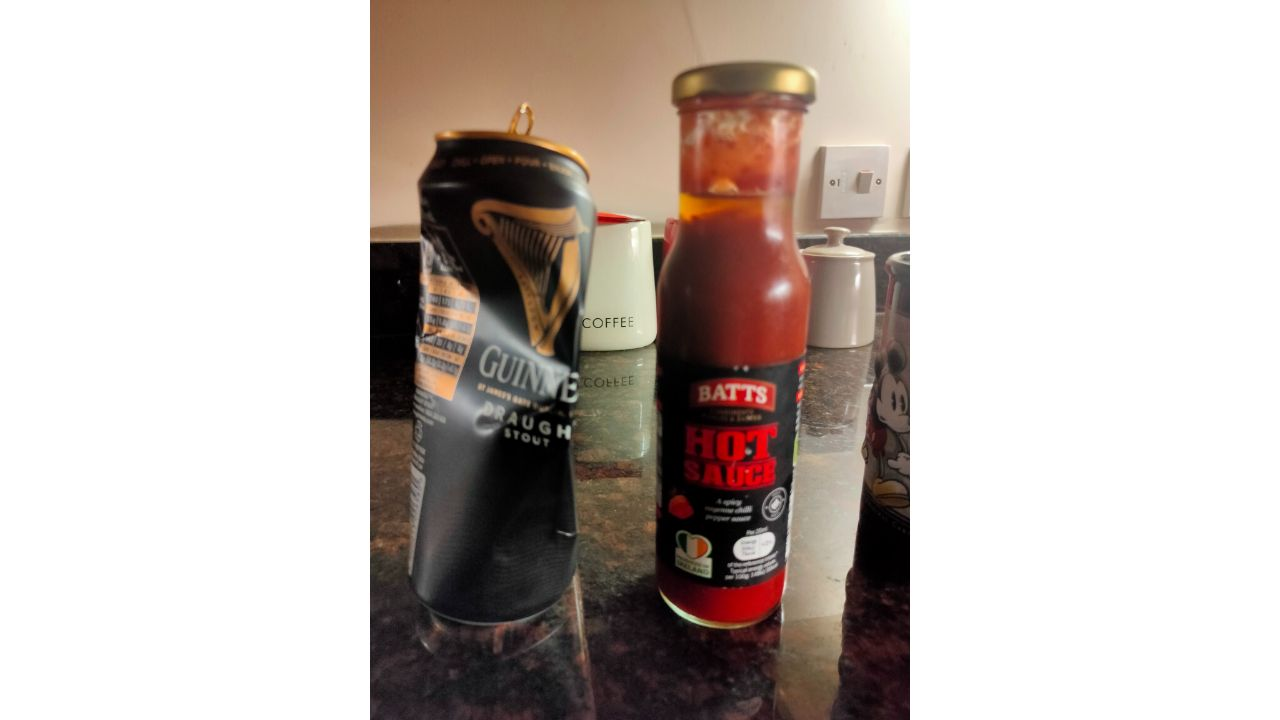Can: (405, 101, 602, 629)
